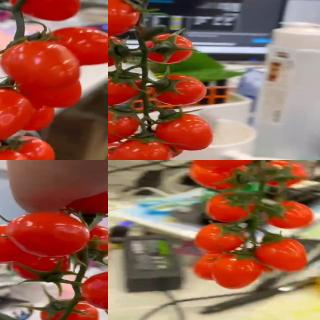tomato: (5, 212, 91, 259), (0, 40, 80, 90), (40, 25, 108, 66), (15, 73, 83, 110), (153, 113, 214, 151), (254, 237, 310, 274), (0, 86, 34, 141), (7, 254, 71, 283), (150, 75, 206, 107), (188, 160, 244, 192), (6, 0, 81, 23), (206, 191, 258, 224), (213, 256, 261, 290), (193, 223, 247, 253), (145, 33, 194, 65), (264, 200, 316, 230), (260, 161, 314, 189), (0, 222, 35, 263), (0, 135, 56, 160), (192, 254, 240, 281), (108, 0, 140, 40), (38, 300, 101, 320), (112, 139, 170, 160), (65, 188, 108, 216), (108, 108, 140, 145), (80, 270, 108, 312), (108, 73, 140, 107), (188, 160, 264, 170), (108, 36, 129, 70), (86, 223, 108, 252), (108, 142, 139, 160)
